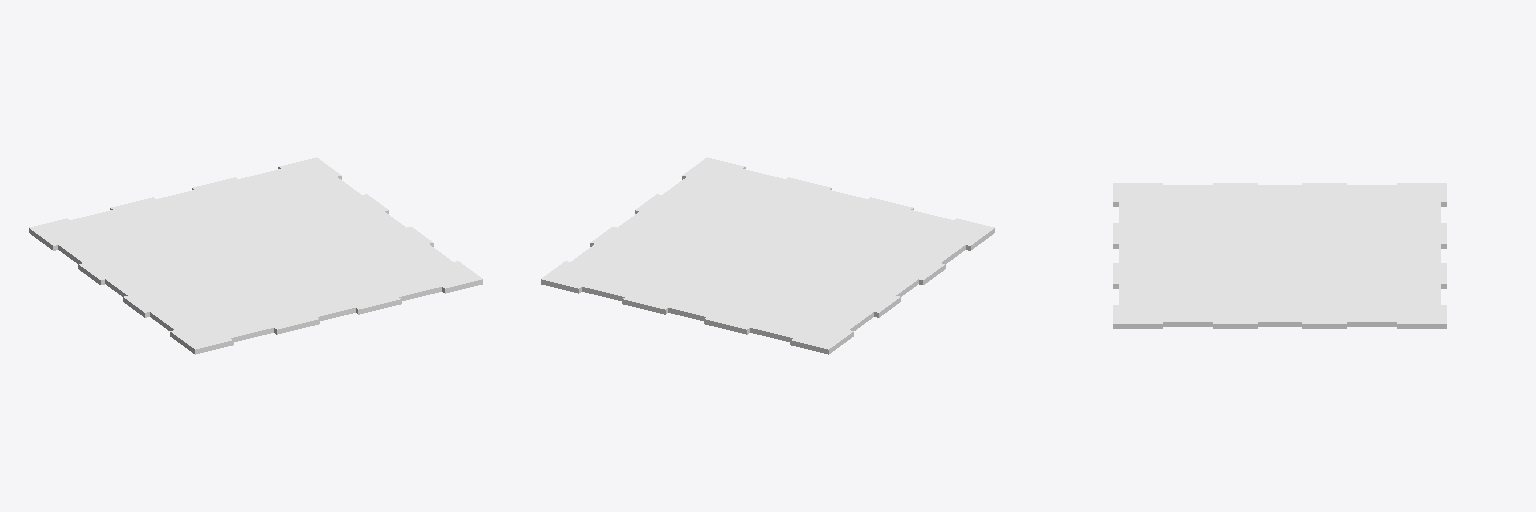
The model's file is greenTable.obj.
3 renders of one model, left to right at view 1: azimuth 30°, elevation 25°; view 2: azimuth 150°, elevation 25°; view 3: azimuth 270°, elevation 25°, orthographic.
Size of the model in its own units: 60 by 1 by 60.